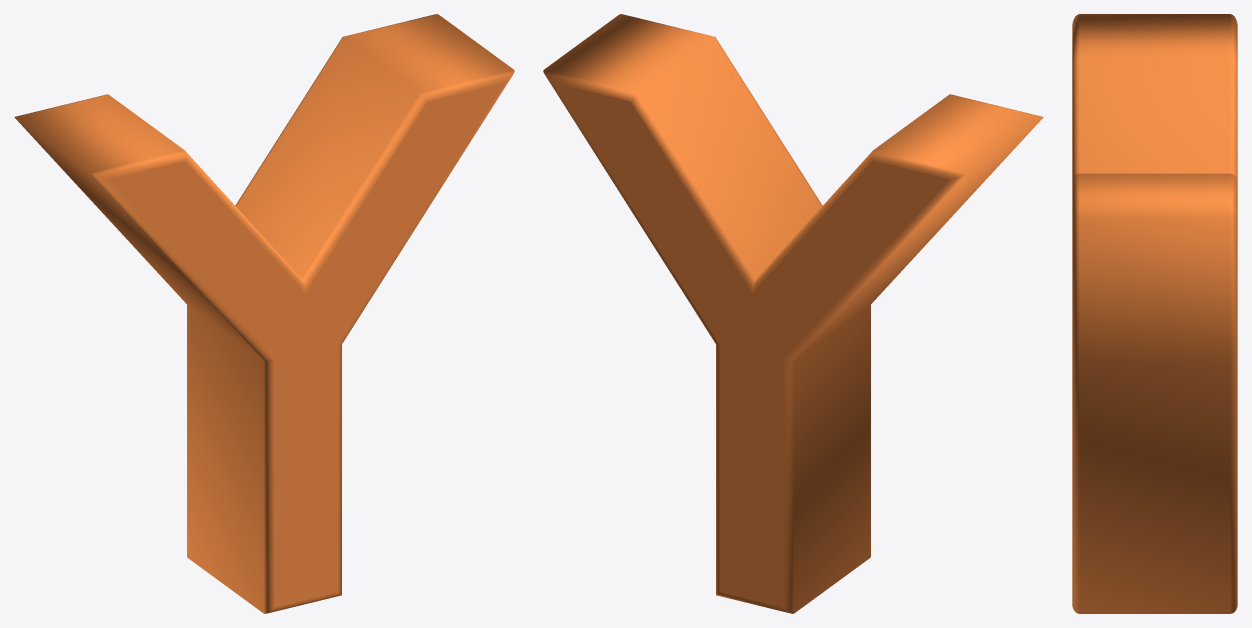
The picture shows the model from 3 angles, left to right: view 1: azimuth 30°, elevation 25°; view 2: azimuth 150°, elevation 25°; view 3: azimuth 270°, elevation 25°; orthographic projection.
Visible parts, largest first — view 1: Text; view 2: Text; view 3: Text.
Part boxes in pixels (bbox=[...]): Text: bbox=[14, 14, 514, 613]; Text: bbox=[543, 14, 1043, 613]; Text: bbox=[1072, 14, 1237, 613].
Size of the model in its own units: 1.77 by 1.93 by 0.6049.
